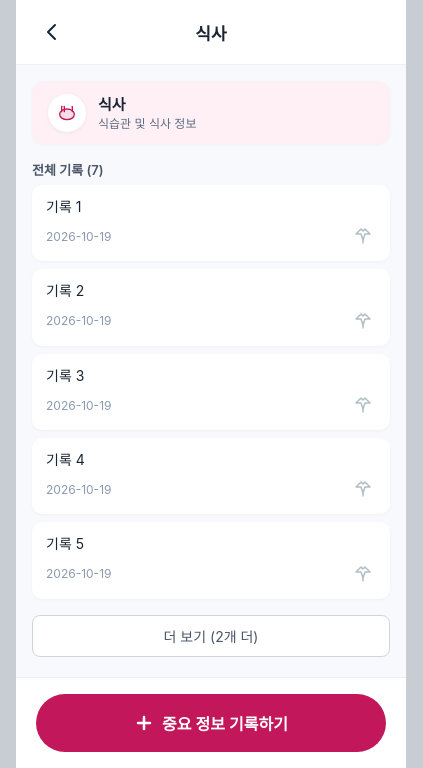
Test: 전체 기록 더 보기 클릭 시 모든 기록이 표시된다
The image size is (423, 768).
Expected: the text "기록 1" is shown, [46,198,81,215]
Click the button "더 보기 (2개 더)" at (211, 636), box [32,615,390,657]
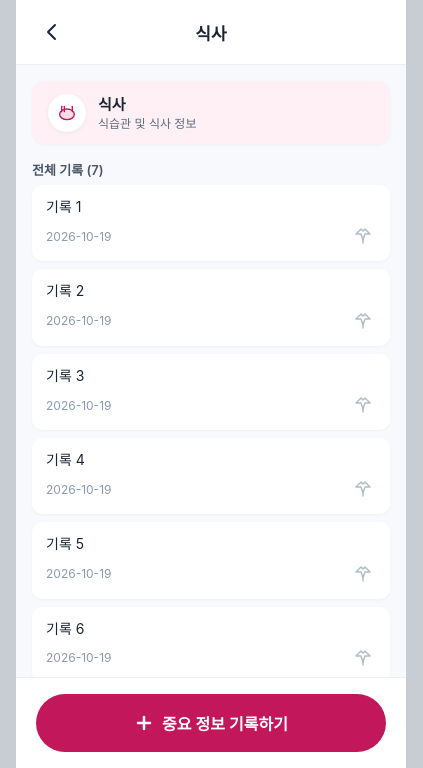
Expected: the button "더 보기" is gone
